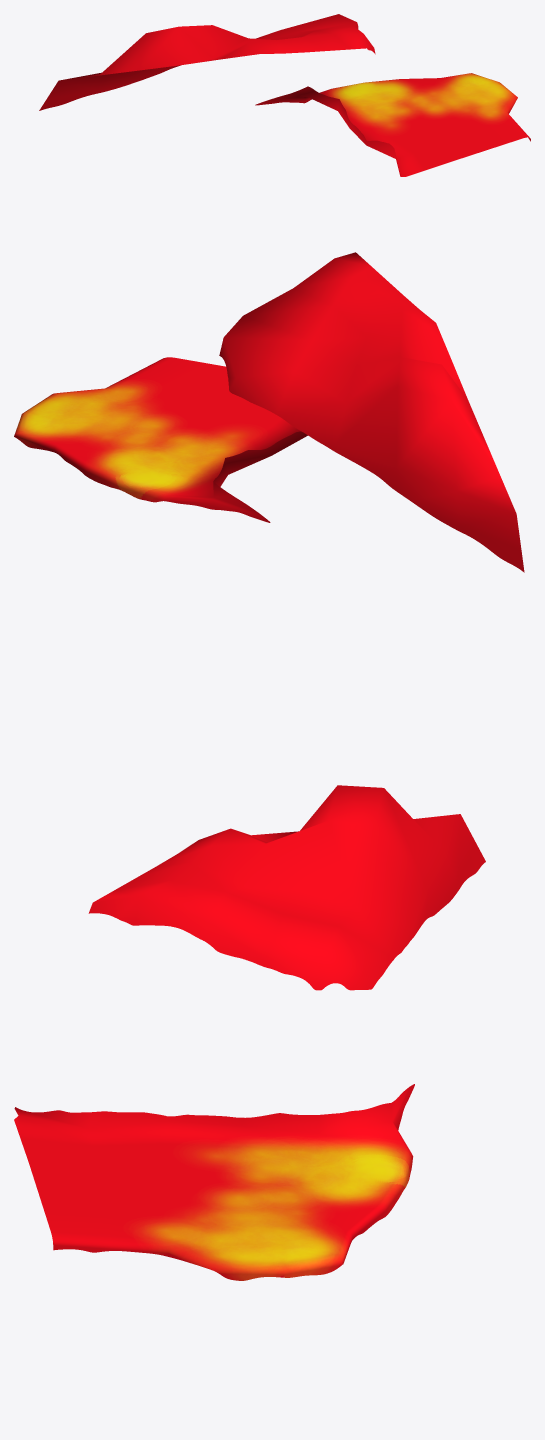
Rendered from SM_BoutTerrainLVL1.fbx.
3 views of the same model, one above another, from view 1: azimuth 30°, elevation 25°; view 2: azimuth 150°, elevation 25°; view 3: azimuth 270°, elevation 25° (orthographic). The views are drawn at different scales.
Visible parts, largest first — view 1: Plane.001; view 2: Plane.001; view 3: Plane.001.
Part boxes in pixels (<box>): Plane.001: <box>39,14,530,176</box>; Plane.001: <box>14,252,524,572</box>; Plane.001: <box>14,785,485,1280</box>.
Size of the model in its own units: 3229 by 1534 by 1916.
